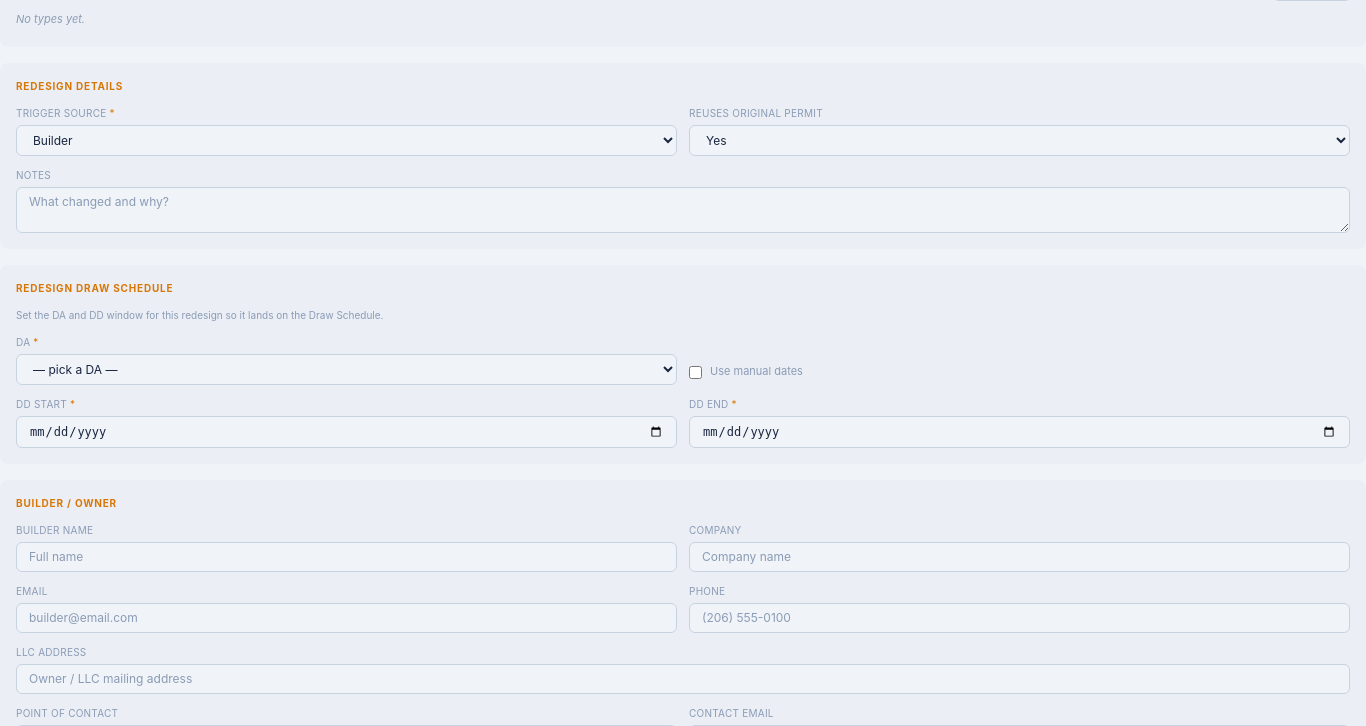
Scenario: Redesign DD phase — Step 1 section › auto-place mode fills the dates read-only when a DA is picked
The image size is (1366, 726).
(page scrolled)
Select "Trevor" in the dropdown with test id "wizard-redesign-dd-da" at x=346, y=370, box 16,354 -> 677,385
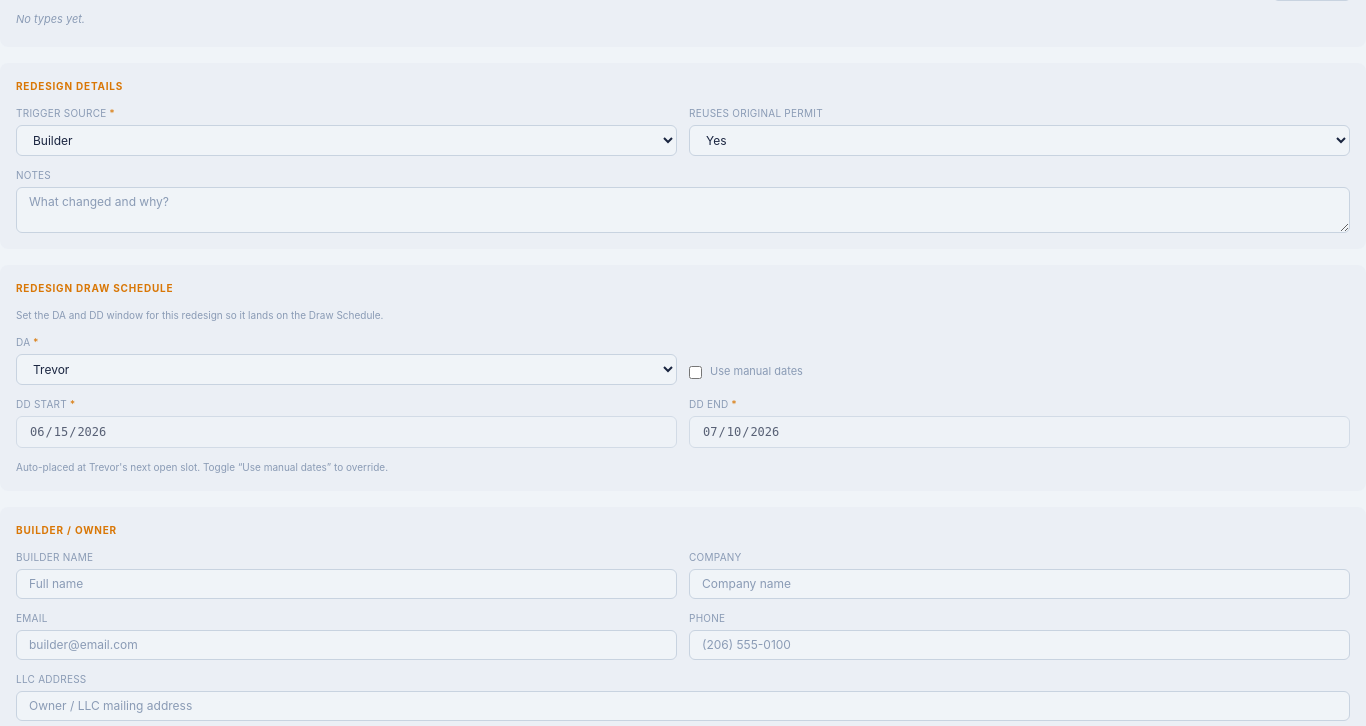
Now the date field with test id "wizard-redesign-dd-start" holds "2026-06-15", box 16,416 -> 677,448
Now the date field with test id "wizard-redesign-dd-end" holds "2026-07-10", box 689,416 -> 1350,448
